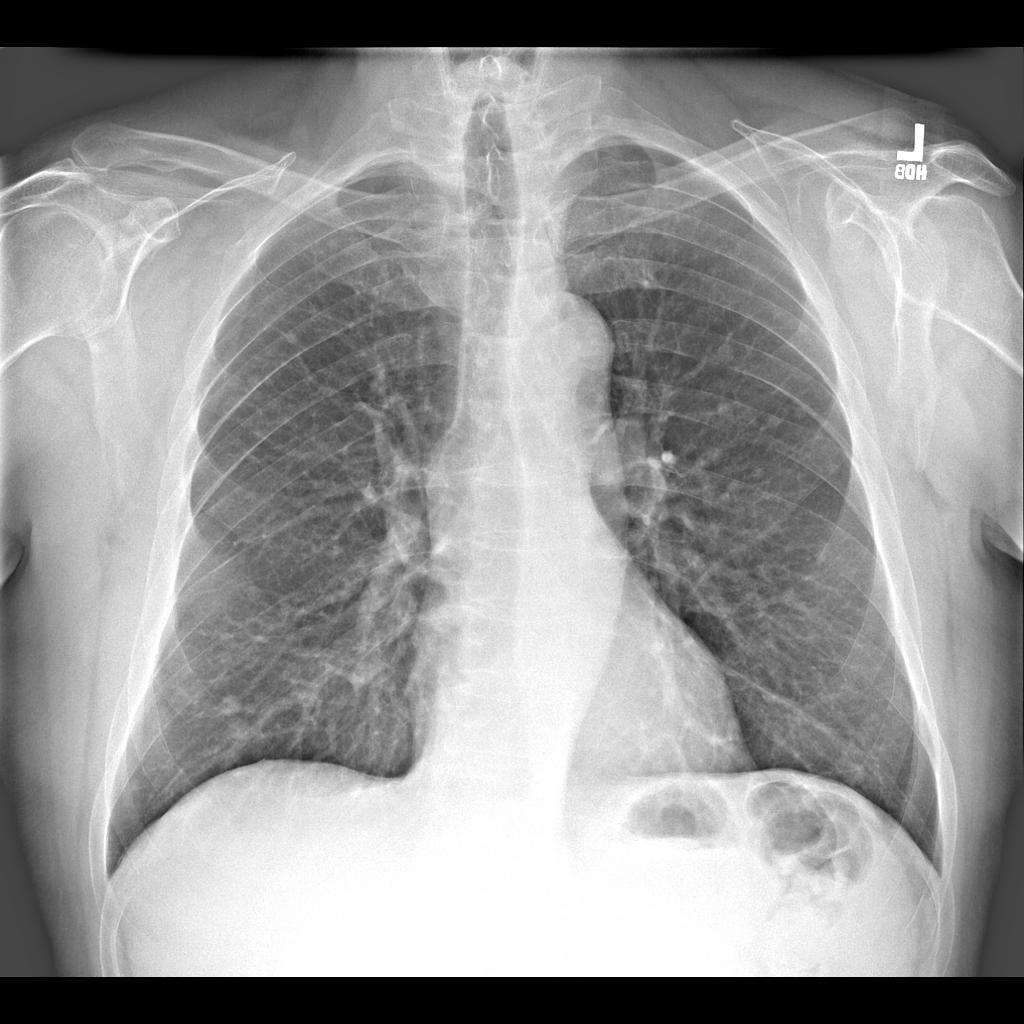Nodule: (212, 687, 252, 726)
